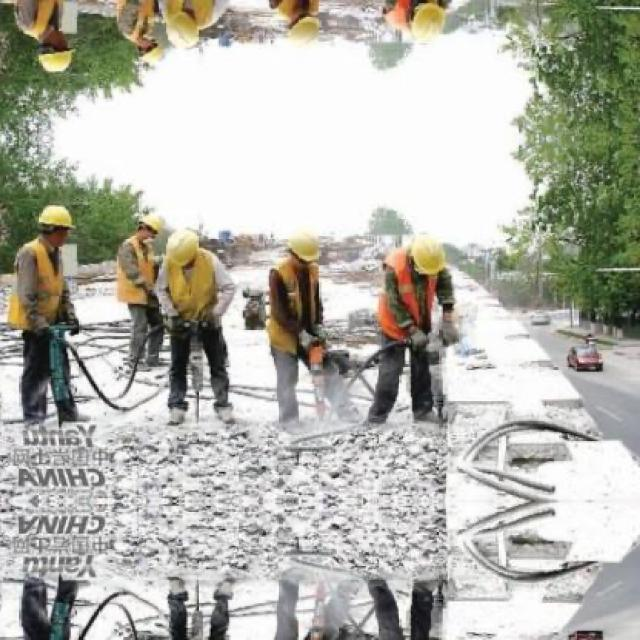con casco: (5, 184, 109, 300), (144, 213, 253, 311), (366, 218, 472, 312), (256, 203, 341, 311)
